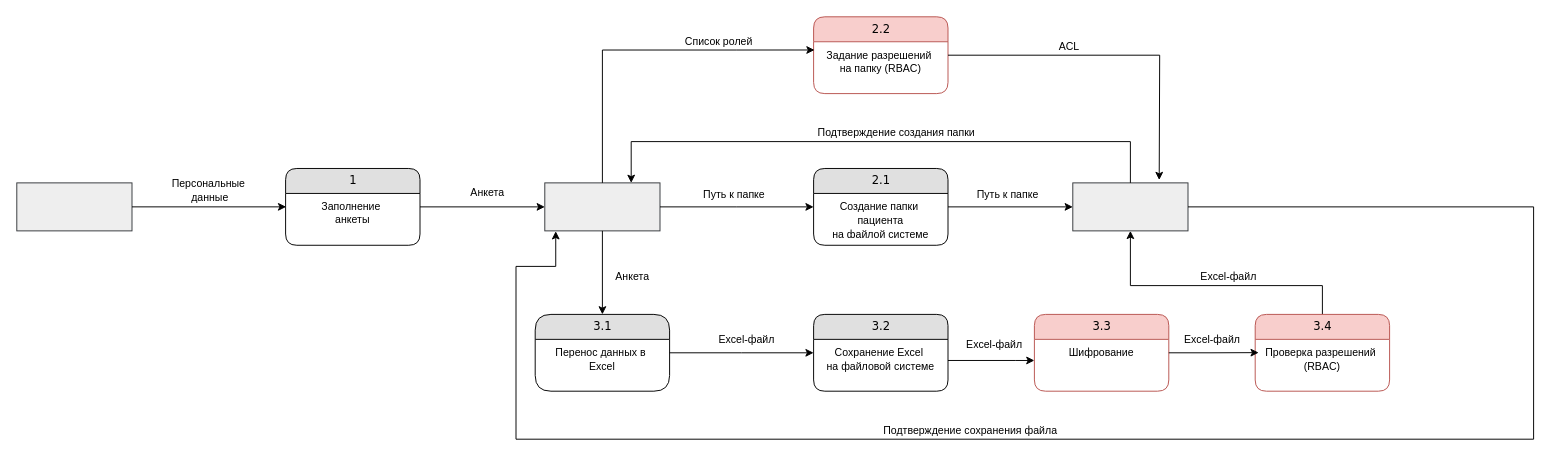
Some shapes in this 1558 by 464 pixel diagram are drawn without their labels. The centre of each missing label's shape, as x and y in pixels:
"Пациент" belongs at (74,206).
"Сотрудник ресепшена" belongs at (602,206).
"Файловая система" belongs at (1130,206).
